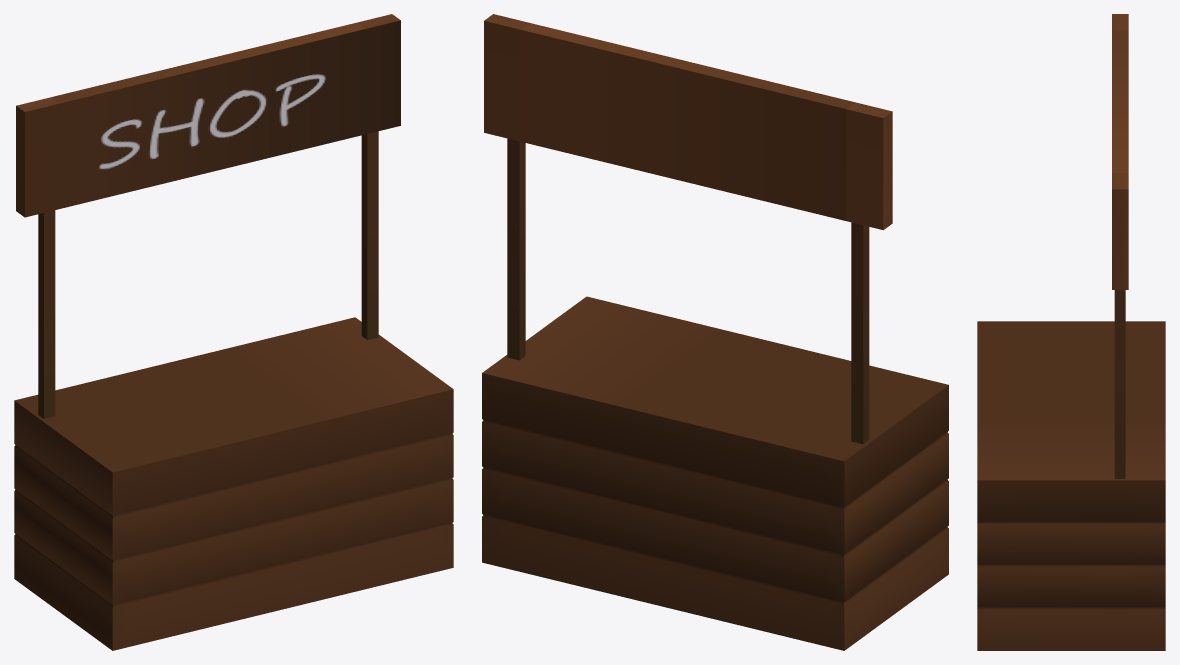
The model's file is PROP_026_WoodenTableShop.fbx.
The picture shows the model from 3 angles, left to right: view 1: azimuth 30°, elevation 25°; view 2: azimuth 150°, elevation 25°; view 3: azimuth 270°, elevation 25°; orthographic projection. The views are drawn at different scales.
Parts seen in each view (by area): view 1: PROP_026_WoodenTableShop; view 2: PROP_026_WoodenTableShop; view 3: PROP_026_WoodenTableShop.
Part boxes in pixels (bbox=[...]): PROP_026_WoodenTableShop: bbox=[14, 14, 453, 650]; PROP_026_WoodenTableShop: bbox=[482, 14, 948, 650]; PROP_026_WoodenTableShop: bbox=[977, 14, 1165, 650].
Bounding box in the file's own units: 26.04 × 32.54 × 11.81.
